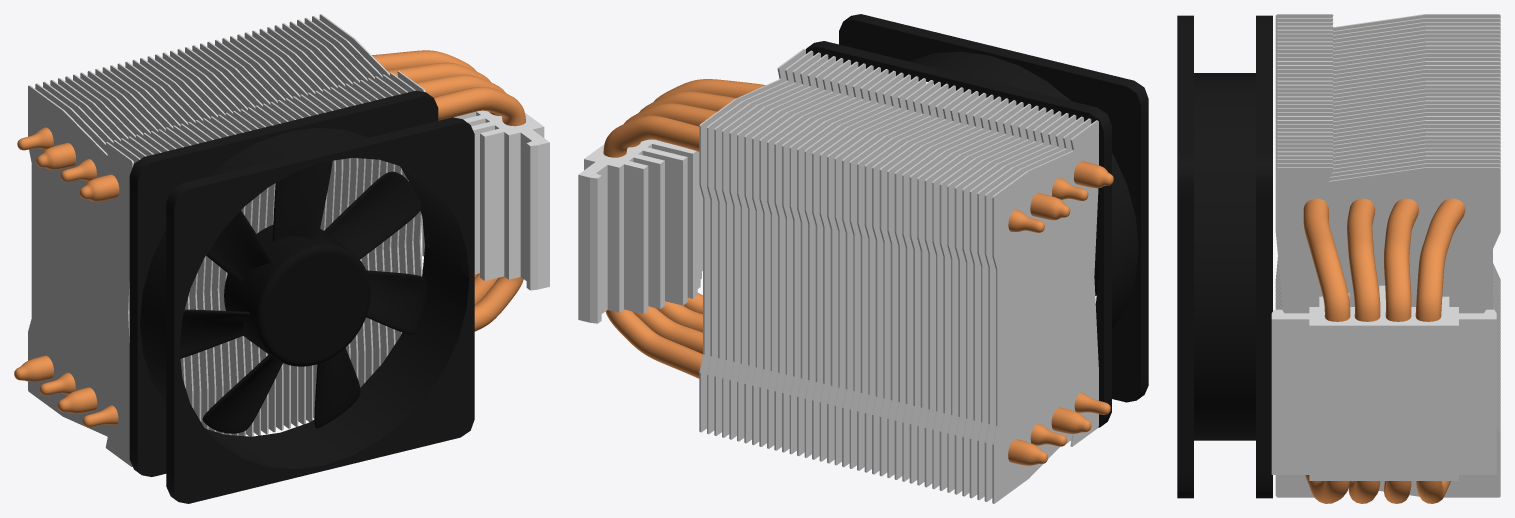
Rendered from hyper-212.glb.
3 renders of one model, left to right at view 1: azimuth 30°, elevation 25°; view 2: azimuth 150°, elevation 25°; view 3: azimuth 270°, elevation 25°, orthographic. The views are drawn at different scales.
Parts seen in each view (by area): view 1: Object_4, Object_6, Object_2, Object_3, Object_5; view 2: Object_4, Object_6, Object_5, Object_3; view 3: Object_4, Object_6, Object_5, Object_3.
Boxes of the visible parts, <box> form: Object_4: <box>28,14,425,466</box>; Object_6: <box>129,90,474,503</box>; Object_2: <box>179,160,426,433</box>; Object_3: <box>14,50,525,426</box>; Object_5: <box>422,110,549,290</box>; Object_4: <box>699,48,1098,503</box>; Object_6: <box>806,14,1148,427</box>; Object_5: <box>578,139,702,323</box>; Object_3: <box>603,79,1113,465</box>; Object_4: <box>1275,14,1500,497</box>; Object_6: <box>1177,15,1272,498</box>; Object_5: <box>1271,285,1496,480</box>; Object_3: <box>1303,198,1465,503</box>.
Bounding box in the file's own units: 0.159 × 0.1038 × 0.0899.
